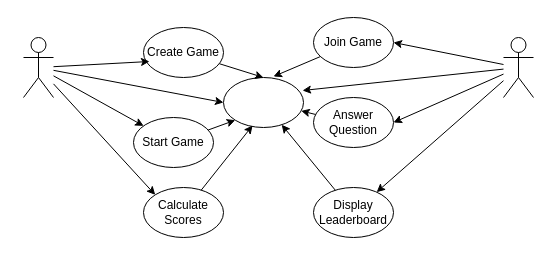
This 556x255 diagram has some shape labels left out. Here are the shapes that lost their labels. From the top down, the centre of each, then its label:
(x=38, y=67): Teacher
(x=518, y=67): Student
(x=263, y=102): login
